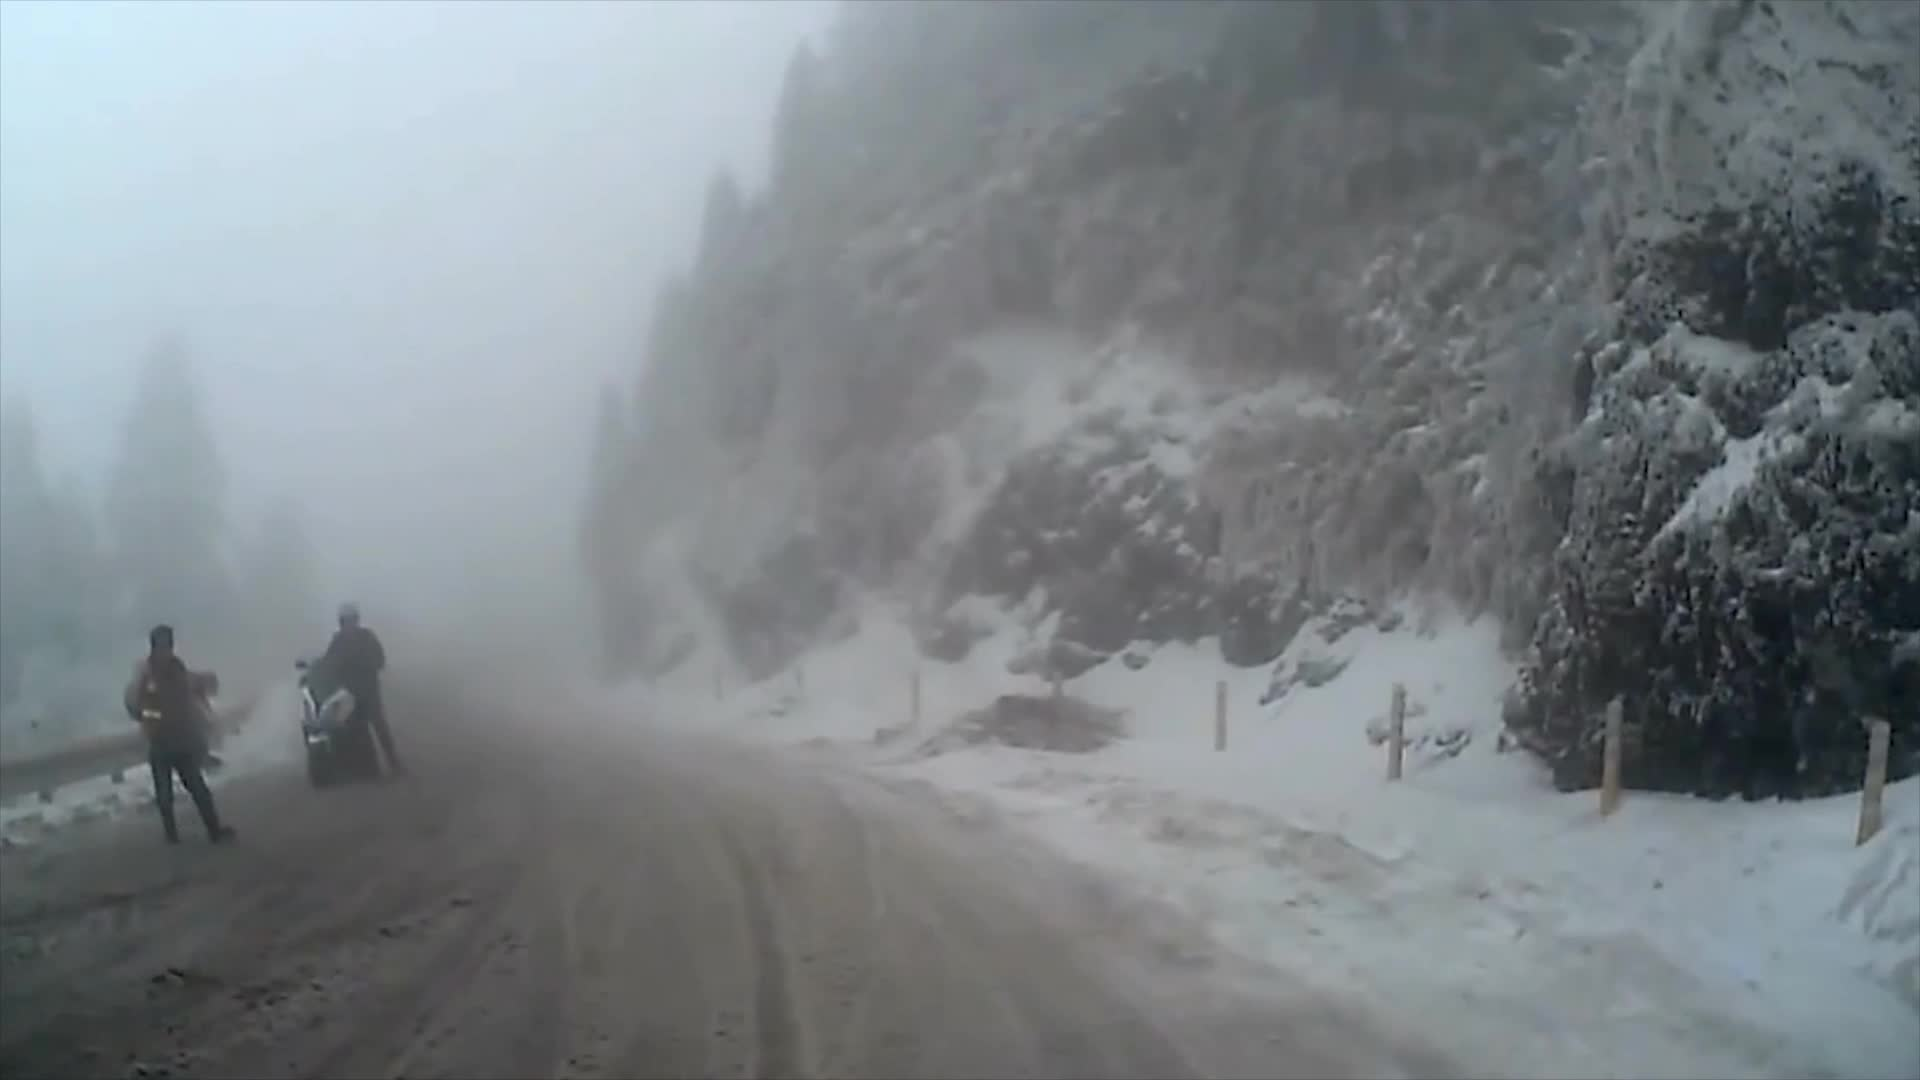pedestrian: (129, 625, 231, 846), (313, 603, 410, 794)
